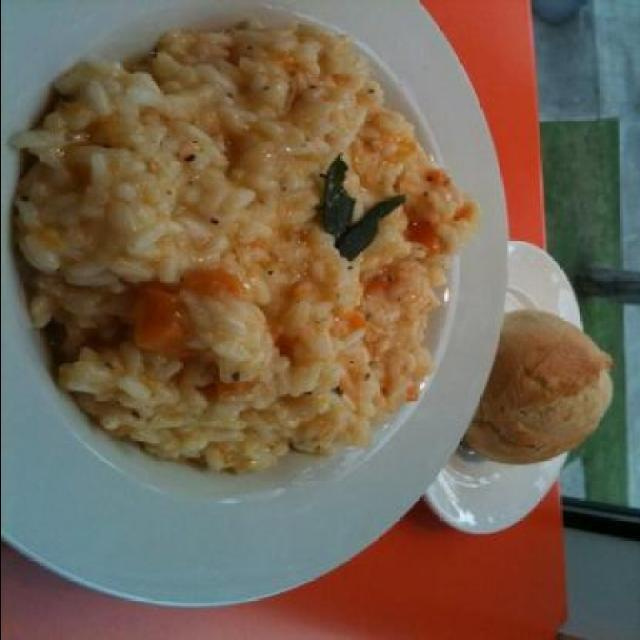Risotto: (47, 34, 470, 448)
